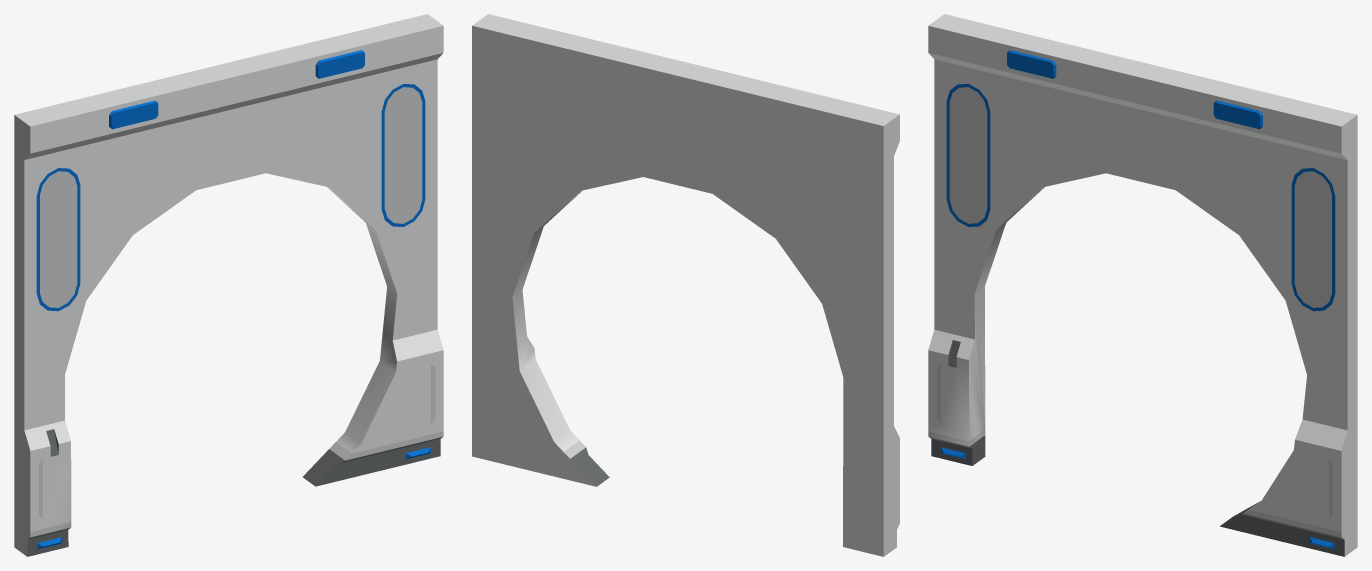
File: Wall_type_A_056.fbx
3 renders of one model, left to right at view 1: azimuth 30°, elevation 25°; view 2: azimuth 150°, elevation 25°; view 3: azimuth 330°, elevation 25°, orthographic.
Visible parts, largest first — view 1: Wall_type_A_056; view 2: Wall_type_A_056; view 3: Wall_type_A_056.
Part boxes in pixels (x1=…): Wall_type_A_056: x1=14, y1=14, x2=443, y2=556; Wall_type_A_056: x1=472, y1=14, x2=899, y2=556; Wall_type_A_056: x1=928, y1=14, x2=1357, y2=556.
Size of the model in its own units: 400 by 28.98 by 400.
